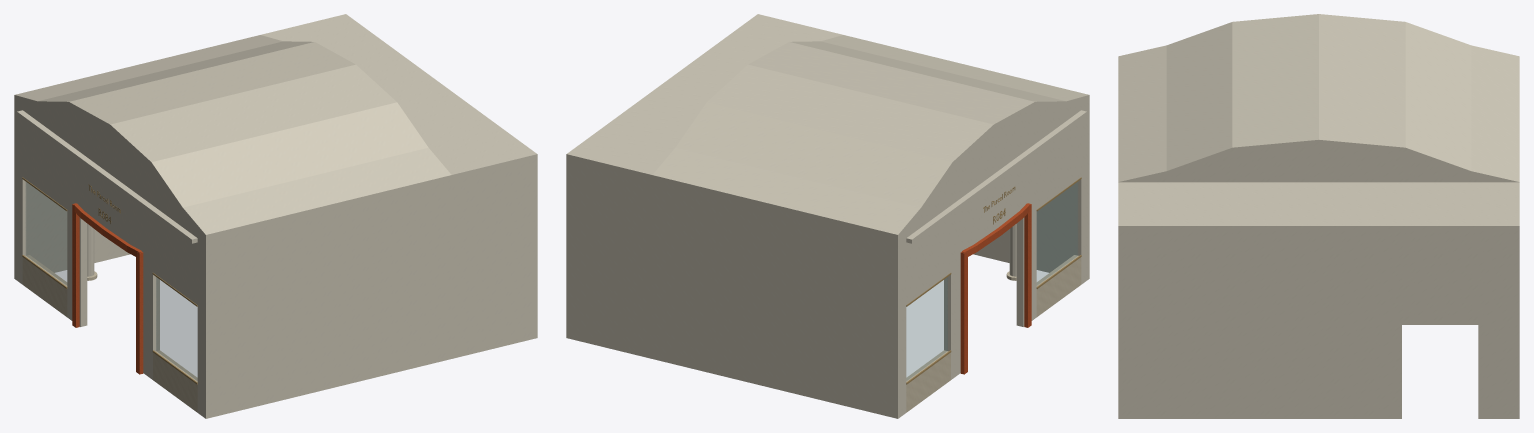
Rendered from SHOP_D09_S100_F184__shell.glb.
The picture shows the model from 3 angles, left to right: view 1: azimuth 30°, elevation 25°; view 2: azimuth 150°, elevation 25°; view 3: azimuth 270°, elevation 25°; orthographic projection. The views are drawn at different scales.
Visible parts, largest first — view 1: SHOP_D09_S100_F184__shell__ivory_enamel, SHOP_D09_S100_F184__shell__shop_glass, SHOP_D09_S100_F184__shell__warm_stone, SHOP_D09_S100_F184__shell__retail_terracotta_enamel, SHOP_D09_S100_F184__shell__champagne_metal; view 2: SHOP_D09_S100_F184__shell__ivory_enamel, SHOP_D09_S100_F184__shell__shop_glass, SHOP_D09_S100_F184__shell__warm_stone, SHOP_D09_S100_F184__shell__retail_terracotta_enamel, SHOP_D09_S100_F184__shell__champagne_metal; view 3: SHOP_D09_S100_F184__shell__ivory_enamel.
Boxes of the visible parts, x1=… form: SHOP_D09_S100_F184__shell__ivory_enamel: x1=14, y1=14, x2=537, y2=418; SHOP_D09_S100_F184__shell__shop_glass: x1=26, y1=182, x2=197, y2=380; SHOP_D09_S100_F184__shell__warm_stone: x1=22, y1=255, x2=197, y2=412; SHOP_D09_S100_F184__shell__retail_terracotta_enamel: x1=72, y1=203, x2=143, y2=374; SHOP_D09_S100_F184__shell__champagne_metal: x1=22, y1=177, x2=197, y2=384; SHOP_D09_S100_F184__shell__ivory_enamel: x1=566, y1=14, x2=1089, y2=418; SHOP_D09_S100_F184__shell__shop_glass: x1=906, y1=182, x2=1077, y2=380; SHOP_D09_S100_F184__shell__warm_stone: x1=906, y1=255, x2=1081, y2=412; SHOP_D09_S100_F184__shell__retail_terracotta_enamel: x1=960, y1=203, x2=1031, y2=374; SHOP_D09_S100_F184__shell__champagne_metal: x1=906, y1=177, x2=1081, y2=384; SHOP_D09_S100_F184__shell__ivory_enamel: x1=1118, y1=14, x2=1519, y2=418.
Size of the model in its own units: 11.86 by 7.5 by 11.6.
6 materials, 4 textured.
